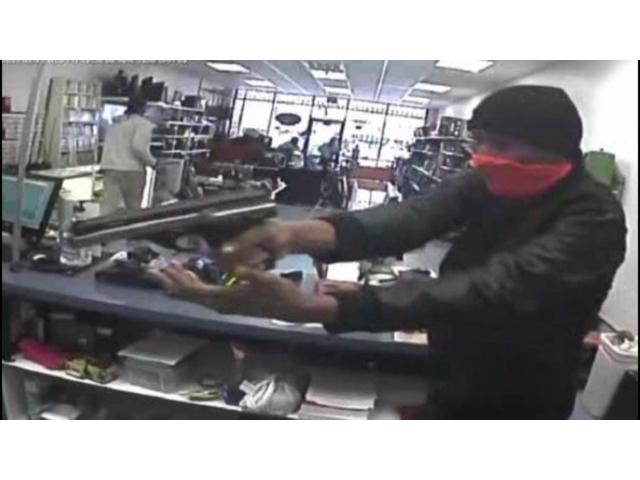pistol: (70, 183, 279, 298)
